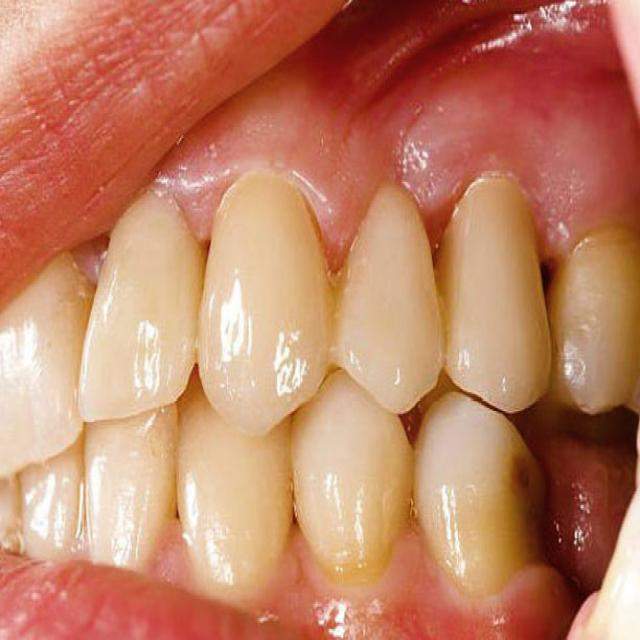caries: (554, 228, 640, 427), (491, 431, 539, 514)
